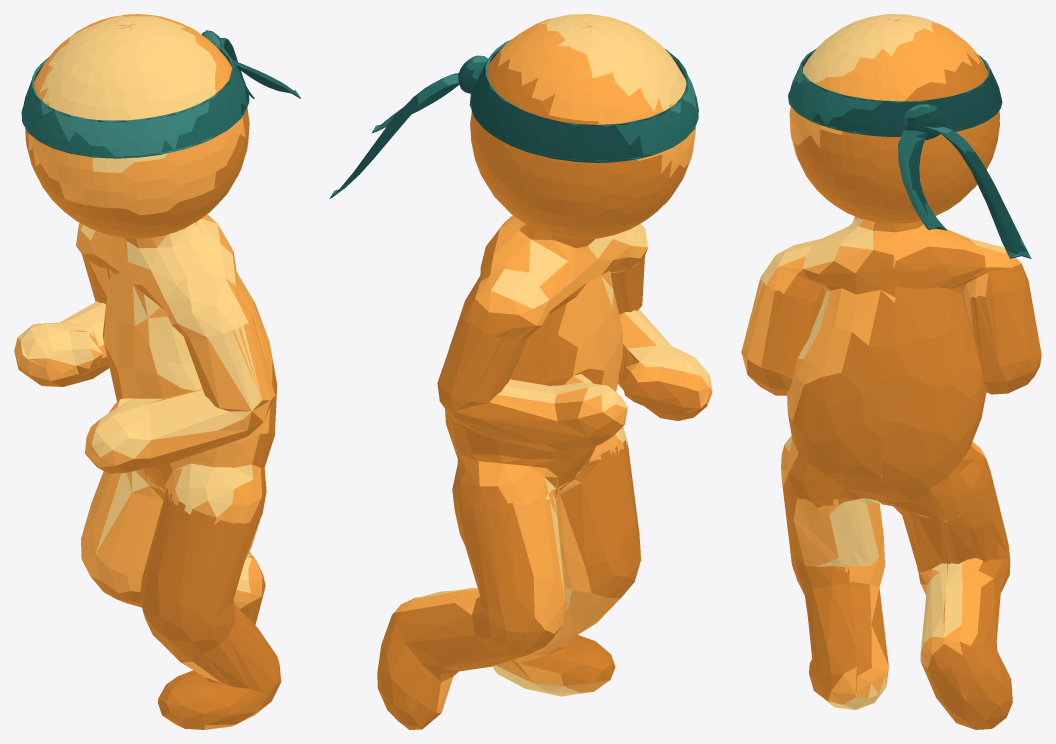
Rendered from Ninja_Jog3_L.gltf.
3 renders of one model, left to right at view 1: azimuth 30°, elevation 25°; view 2: azimuth 150°, elevation 25°; view 3: azimuth 270°, elevation 25°, orthographic. The views are drawn at different scales.
Visible parts, largest first — view 1: Ninja_Jog3_L_baked; view 2: Ninja_Jog3_L_baked; view 3: Ninja_Jog3_L_baked.
Boxes of the visible parts, x1=… form: Ninja_Jog3_L_baked: x1=14, y1=14, x2=300, y2=729; Ninja_Jog3_L_baked: x1=329, y1=14, x2=712, y2=729; Ninja_Jog3_L_baked: x1=741, y1=14, x2=1041, y2=729.
Size of the model in its own units: 0.4256 by 1 by 0.4183.
